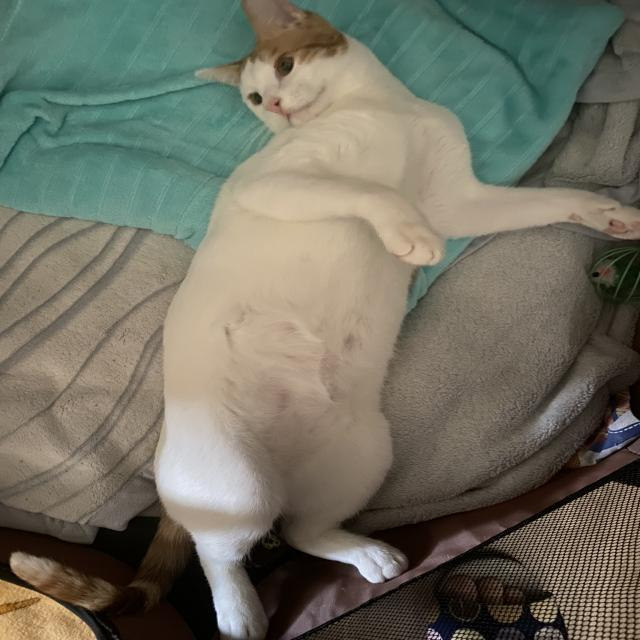cat1: (157, 1, 640, 640)
